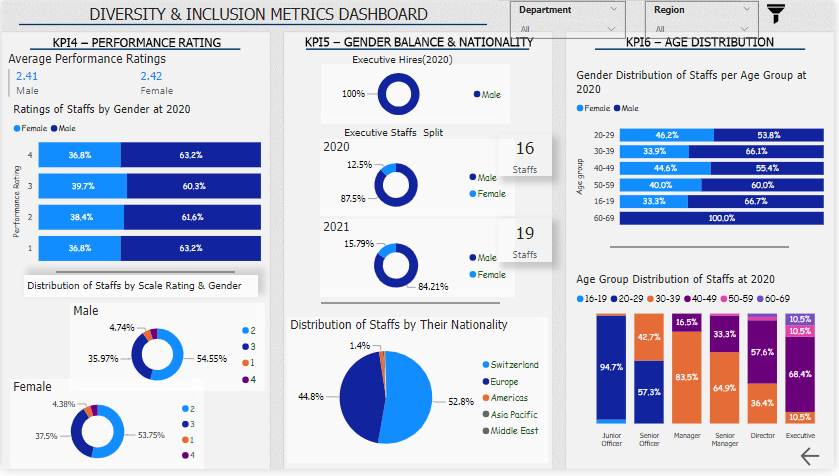

This screenshot's page, from the dashboard's own definition file:
{"tool":"powerbi","page":{"name":"Page 2","canvas":[1280,720],"ordinal":2},"visuals":[{"type":"textbox","box":[44,0,700,44],"z":0},{"type":"shape","box":[26,26,720,20],"z":1000},{"type":"hundredPercentStackedBarChart","title":"Gender Distribution of Staffs per Age Group at 2020","fields":{"Y":["CountNonNull(Pharma Group AG.Job Level before FY20 promotions)"],"Series":["Pharma Group AG.Gender"],"Category":["Pharma Group AG.Age group"]},"box":[878.5,103.1,390.8,256.9],"z":2000},{"type":"hundredPercentStackedColumnChart","title":"Age Group Distribution of Staffs at 2020","fields":{"Series":["Pharma Group AG.Age group"],"Category":["Backing 2.Job level text"],"Y":["CountNonNull(Pharma Group AG.Job Level after FY20 promotions)"]},"box":[878.5,416.9,401.5,278.5],"z":3000},{"type":"pieChart","title":"Distribution of Staffs by Their Nationality","fields":{"Category":["Pharma Group AG.Region group: nationality 1"],"Y":["CountNonNull(Pharma Group AG.Region group: nationality 1)"]},"box":[438.5,486.2,401.5,224.6],"z":4000},{"type":"hundredPercentStackedBarChart","title":"Ratings of Staffs by Gender at 2020","fields":{"Series":["Pharma Group AG.Gender"],"Y":["Sum(Pharma Group AG.FY20 Performance Rating)"],"Category":["Pharma Group AG.FY20 Performance Rating"]},"box":[12.8,155.9,391.2,256.5],"z":5000},{"type":"multiRowCard","title":"Average Performance Ratings","fields":{"Values":["Measures Table.Avg. men performance 20","Measures Table.Avg. female performance 20"]},"box":[4.6,76.9,404.6,92.3],"z":6000},{"type":"donutChart","title":"Female","fields":{"Y":["CountNonNull(Pharma Group AG.Gender)"],"Category":["Pharma Group AG.FY20 Performance Rating 4 piechart"]},"box":[12.3,581.5,298.5,138.5],"z":7000},{"type":"donutChart","title":"Male","fields":{"Category":["Pharma Group AG.FY20 Performance Rating 4 piechart"],"Y":["CountNonNull(Pharma Group AG.Gender)"]},"box":[104.6,464.6,300,135.4],"z":8000},{"type":"textbox","box":[33.8,421.5,360,33.8],"z":9000},{"type":"shape","box":[83.1,407.7,275.4,18.5],"z":10000},{"type":"shape","box":[935.4,369.2,275.4,18.5],"z":11000},{"type":"donutChart","title":"2020","fields":{"Category":["Pharma Group AG.Gender"],"Y":["CountNonNull(Pharma Group AG.Gender)"]},"box":[490.8,96.9,290.8,92.3],"z":12000},{"type":"donutChart","title":"2020","fields":{"Category":["Pharma Group AG.Gender"],"Y":["CountNonNull(Pharma Group AG.Gender)"]},"box":[489.2,212.3,300,118.5],"z":13000},{"type":"donutChart","title":"2021","fields":{"Category":["Pharma Group AG.Gender"],"Y":["CountNonNull(Pharma Group AG.Gender)"]},"box":[489.2,335.4,300,120],"z":14000},{"type":"card","fields":{"Values":["CountNonNull(Pharma Group AG.Job Level after FY20 promotions)"]},"box":[763.1,204.6,83.1,64.6],"z":15000},{"type":"card","fields":{"Values":["CountNonNull(Pharma Group AG.Job Level after FY21 promotions)"]},"box":[763.1,333.8,83.1,67.7],"z":16000},{"type":"textbox","box":[533.8,73.8,212.3,38.5],"z":17000},{"type":"textbox","box":[521.5,186.2,213.8,29.2],"z":18000},{"type":"shape","box":[490.8,455.4,275.4,18.5],"z":19000},{"type":"slicer","fields":{"Values":["Pharma Group AG.Department @01.07.2020"]},"box":[781.5,0,178.5,58.5],"z":20000},{"type":"slicer","fields":{"Values":["Pharma Group AG.Broad region group: nationality 1"]},"box":[989.2,0,175.4,58.5],"z":21000},{"type":"image","box":[1170.8,0,40,40],"z":22000},{"type":"actionButton","box":[1224.6,681.5,55.4,38.5],"z":23000}]}

Visuals, with their boxes in screenshot pixels (x1, y1, x2, y2), scaled from the page's 1280x720 canvas onto the 839x476 screenshot:
textbox: [29, 0, 488, 29]
shape: [17, 17, 489, 30]
"Gender Distribution of Staffs per Age Group at 2020" hundredPercentStackedBarChart: [576, 68, 832, 238]
"Age Group Distribution of Staffs at 2020" hundredPercentStackedColumnChart: [576, 276, 838, 460]
"Distribution of Staffs by Their Nationality" pieChart: [287, 321, 551, 470]
"Ratings of Staffs by Gender at 2020" hundredPercentStackedBarChart: [8, 103, 265, 273]
"Average Performance Ratings" multiRowCard: [3, 51, 268, 112]
"Female" donutChart: [8, 384, 204, 475]
"Male" donutChart: [69, 307, 265, 397]
textbox: [22, 279, 258, 301]
shape: [54, 270, 235, 282]
shape: [613, 244, 794, 256]
"2020" donutChart: [322, 64, 512, 125]
"2020" donutChart: [321, 140, 517, 219]
"2021" donutChart: [321, 222, 517, 301]
card - CountNonNull(Pharma Group AG.Job Level after FY20 promotions): [500, 135, 555, 178]
card - CountNonNull(Pharma Group AG.Job Level after FY21 promotions): [500, 221, 555, 265]
textbox: [350, 49, 489, 74]
textbox: [342, 123, 482, 142]
shape: [322, 301, 502, 313]
slicer - Pharma Group AG.Department @01.07.2020: [512, 0, 629, 39]
slicer - Pharma Group AG.Broad region group: nationality 1: [648, 0, 763, 39]
image: [767, 0, 794, 26]
actionButton: [803, 451, 838, 475]
